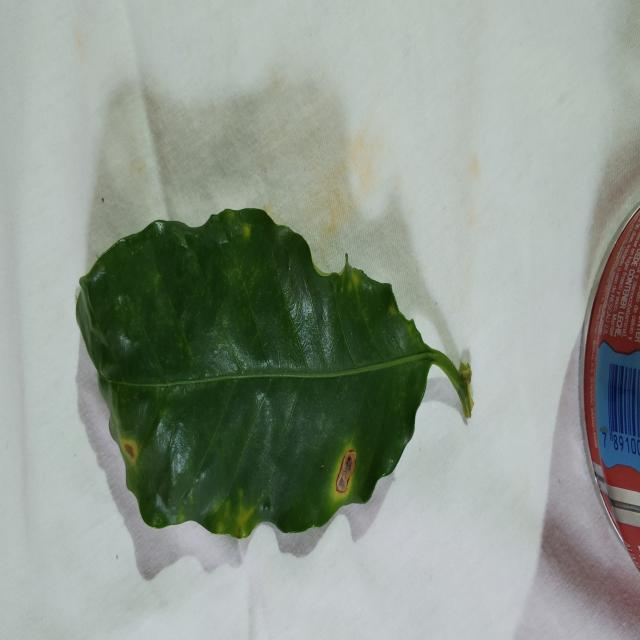Enfermedad-Roya: (74, 208, 474, 542)
